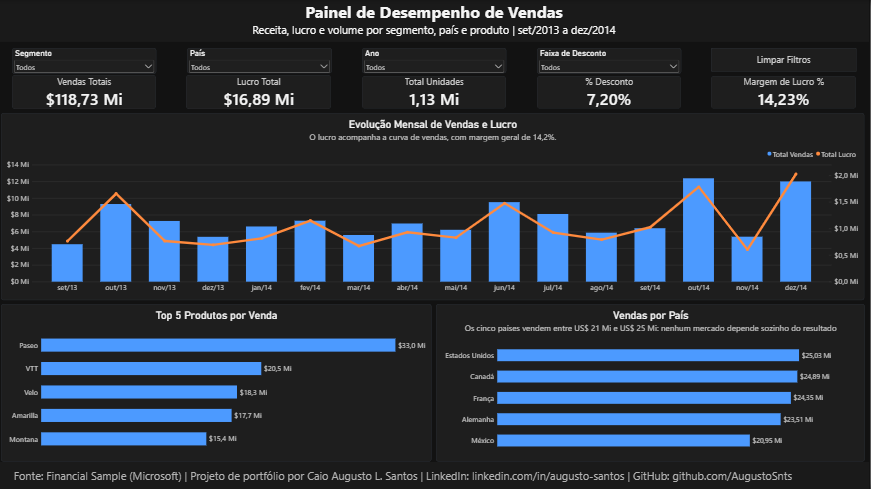

The dashboard page shown, as its layout file describes it:
{"tool":"powerbi","page":{"name":"Visão Geral","canvas":[2560,1440],"ordinal":0},"visuals":[{"type":"cardVisual","fields":{"Data":["Sheet1.Total Vendas"]},"box":[40,220,423.3,100],"z":0},{"type":"cardVisual","fields":{"Data":["Sheet1.Total Lucro"]},"box":[553.3,220,426.7,100],"z":1000},{"type":"cardVisual","fields":{"Data":["Sheet1.Margem de Lucro %"]},"box":[2096.7,223.3,426.7,96.7],"z":2000},{"type":"cardVisual","fields":{"Data":["Sheet1.Total Unidades"]},"box":[1070,223.3,423.3,96.7],"z":3000},{"type":"cardVisual","fields":{"Data":["Sheet1.% Desconto"]},"box":[1583.3,223.3,423.3,96.7],"z":4000},{"type":"lineStackedColumnComboChart","title":"Evolução Mensal de Vendas e Lucro","fields":{"Category":["Calendario.Mes Ano"],"Y":["Sheet1.Total Vendas"],"Y2":["Sheet1.Total Lucro"]},"box":[10,333.3,2536.7,550],"z":5000},{"type":"clusteredBarChart","title":"Vendas por País","fields":{"Category":["Sheet1.Country"],"Y":["Sheet1.Total Vendas"]},"box":[1286.7,893.3,1260,463.3],"z":6000},{"type":"barChart","title":"Top 5 Produtos por Venda","fields":{"Category":["Sheet1.Product"],"Y":["Sheet1.Total Vendas"]},"box":[10,893,1265,463],"z":7000},{"type":"slicer","fields":{"Values":["Sheet1.Segment"]},"box":[40,140,424,76],"z":8000},{"type":"slicer","fields":{"Values":["Sheet1.Country"]},"box":[554,140,426,74],"z":9000},{"type":"slicer","fields":{"Values":["Sheet1.Discount Band"]},"box":[1584,140,424,76],"z":10000},{"type":"slicer","fields":{"Values":["Calendario.Ano"]},"box":[1070,140,424,74],"z":11000},{"type":"actionButton","box":[2096,140,428,70],"z":12000},{"type":"textbox","box":[0,1356.7,2560,83.3],"z":13000},{"type":"textbox","box":[3.3,0,2556.7,123.3],"z":14000}]}

Visuals, with their boxes in screenshot pixels (x1, y1, x2, y2), scaled from the page's 2560x1440 canvas onto the 871x489 screenshot:
cardVisual - Sheet1.Total Vendas: [14,75,158,109]
cardVisual - Sheet1.Total Lucro: [188,75,333,109]
cardVisual - Sheet1.Margem de Lucro %: [713,76,859,109]
cardVisual - Sheet1.Total Unidades: [364,76,508,109]
cardVisual - Sheet1.% Desconto: [539,76,683,109]
"Evolução Mensal de Vendas e Lucro" lineStackedColumnComboChart: [3,113,866,300]
"Vendas por País" clusteredBarChart: [438,303,866,461]
"Top 5 Produtos por Venda" barChart: [3,303,434,460]
slicer - Sheet1.Segment: [14,48,158,73]
slicer - Sheet1.Country: [188,48,333,73]
slicer - Sheet1.Discount Band: [539,48,683,73]
slicer - Calendario.Ano: [364,48,508,73]
actionButton: [713,48,859,71]
textbox: [0,461,870,488]
textbox: [1,0,870,42]
